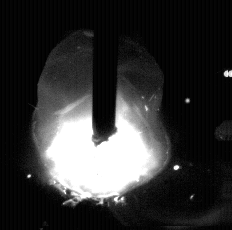arame: (93, 0, 117, 147)
poca: (31, 0, 166, 230)
